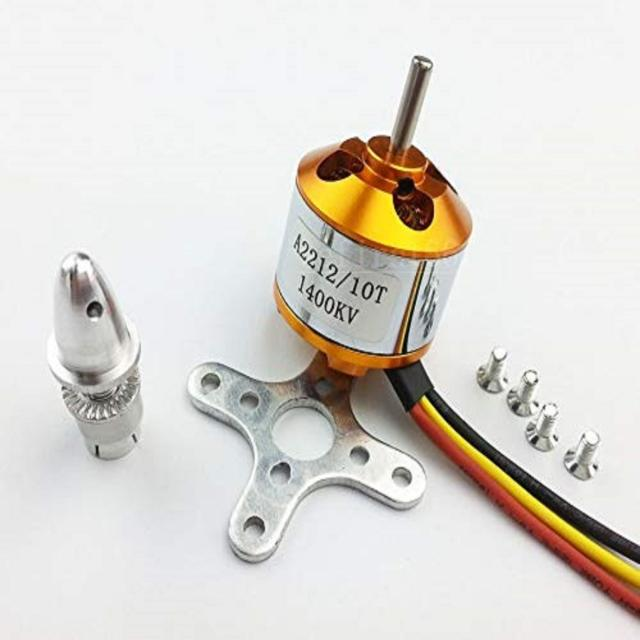motor: (273, 56, 475, 382)
